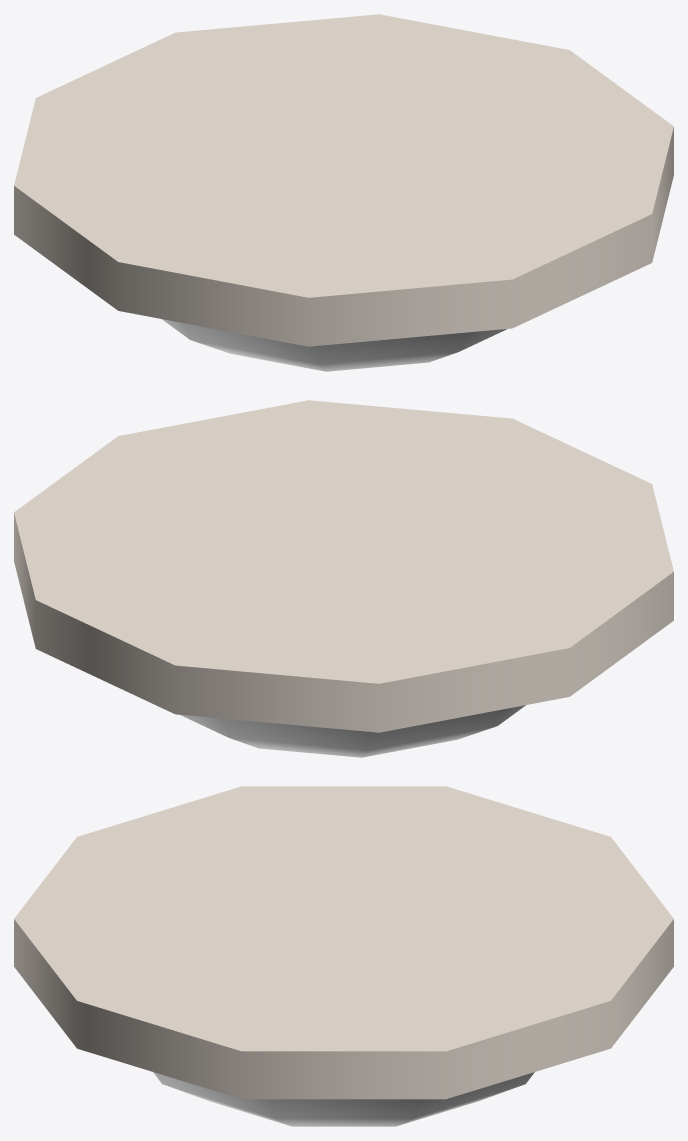
Rendered from CabinLight.fbx.
The picture shows the model from 3 angles, top to bottom: view 1: azimuth 30°, elevation 25°; view 2: azimuth 150°, elevation 25°; view 3: azimuth 270°, elevation 25°; orthographic projection. The views are drawn at different scales.
Parts seen in each view (by area): view 1: Cylinder; view 2: Cylinder; view 3: Cylinder.
Boxes of the visible parts, bbox=[...] form: Cylinder: bbox=[14, 14, 673, 371]; Cylinder: bbox=[14, 400, 673, 757]; Cylinder: bbox=[14, 786, 673, 1126].
Bounding box in the file's own units: 1.9 × 0.5277 × 2.
